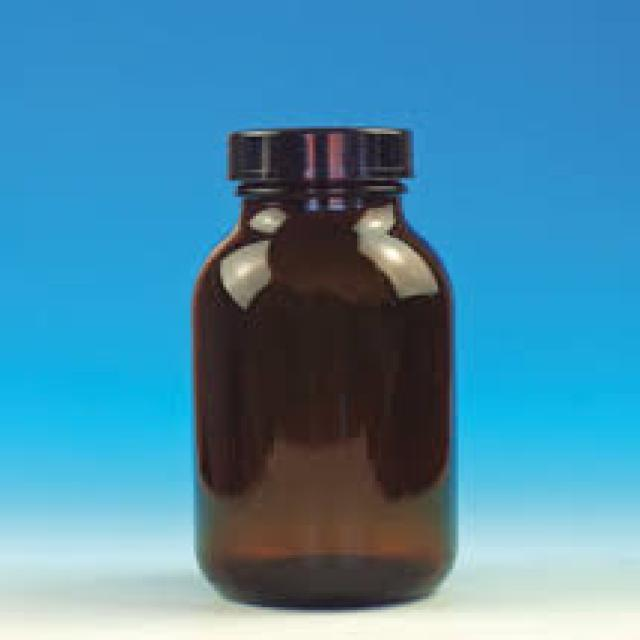glass: (191, 181, 456, 607)
metal: (220, 126, 408, 191)
